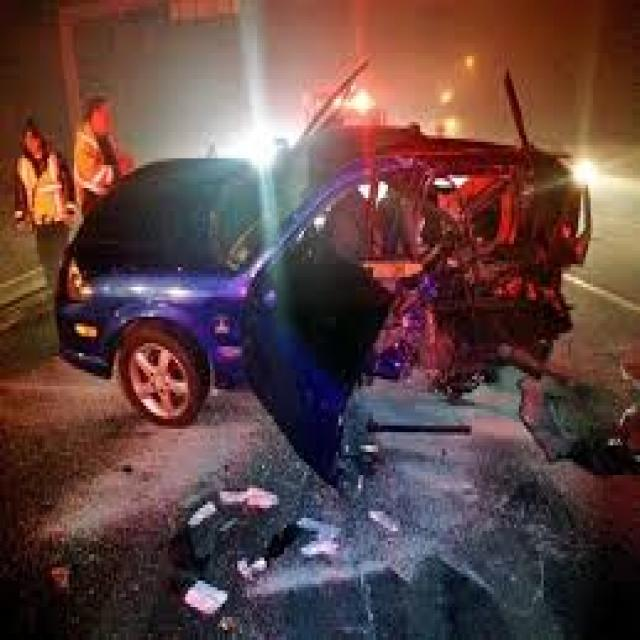severe: (266, 60, 580, 587)
